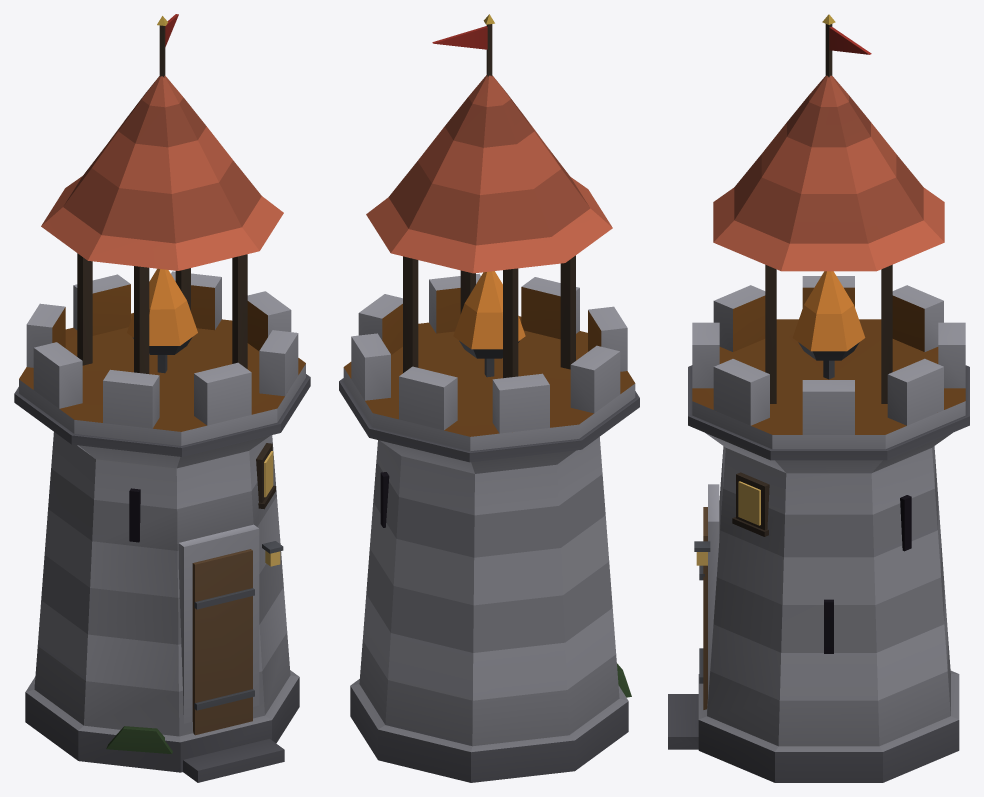
File: tower.glb
3 renders of one model, left to right at view 1: azimuth 30°, elevation 25°; view 2: azimuth 150°, elevation 25°; view 3: azimuth 270°, elevation 25°, orthographic. The views are drawn at different scales.
Visible parts, largest first — view 1: tower; view 2: tower; view 3: tower.
Boxes of the visible parts, box(x1,y1,x2,y2) form: tower: box(14, 14, 310, 782); tower: box(339, 14, 639, 782); tower: box(668, 14, 969, 782).
Size of the model in its own units: 2.48 by 6.92 by 2.65.
